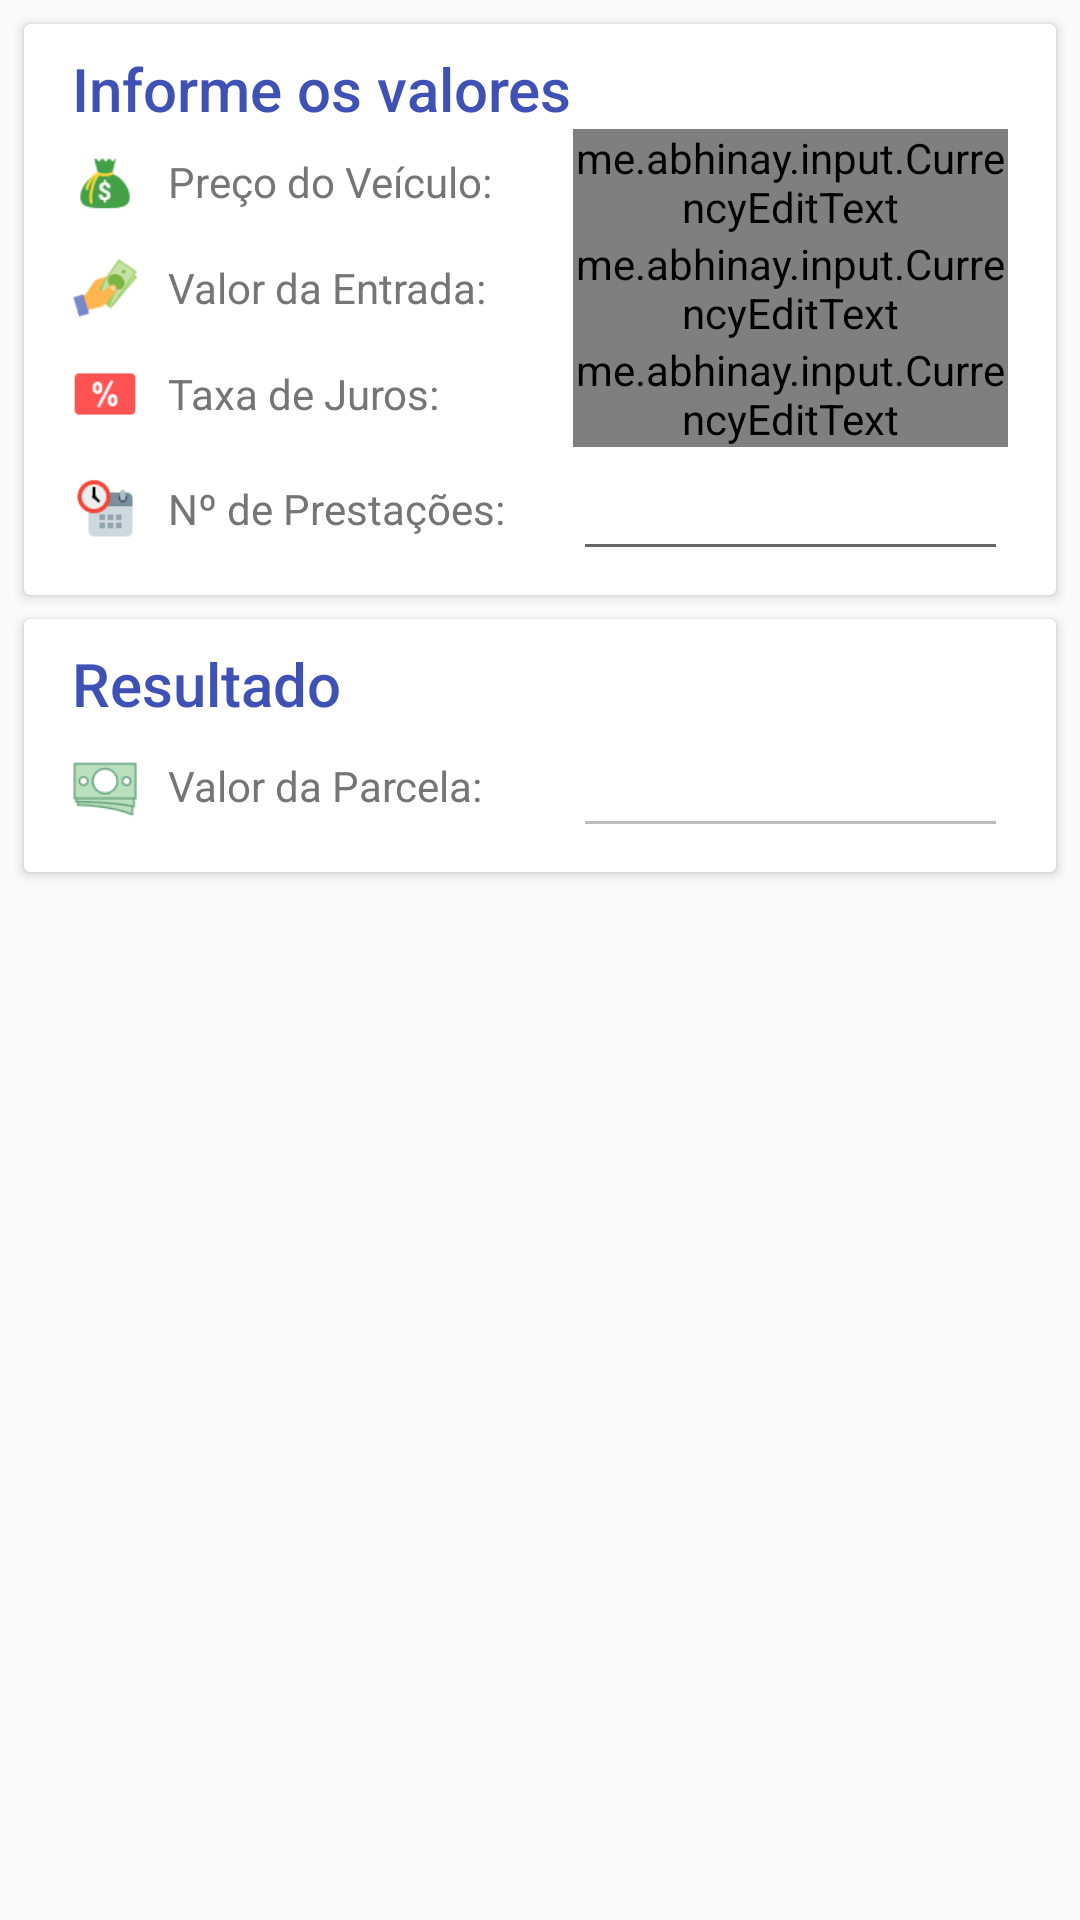

Screen size 1080x1920. Icon name, then its box in pixels as (x1, y1, x2, y2):
cash in hand: (73, 259, 137, 317)
money: (73, 762, 137, 816)
money bag: (80, 158, 130, 209)
overtime: (77, 480, 133, 536)
